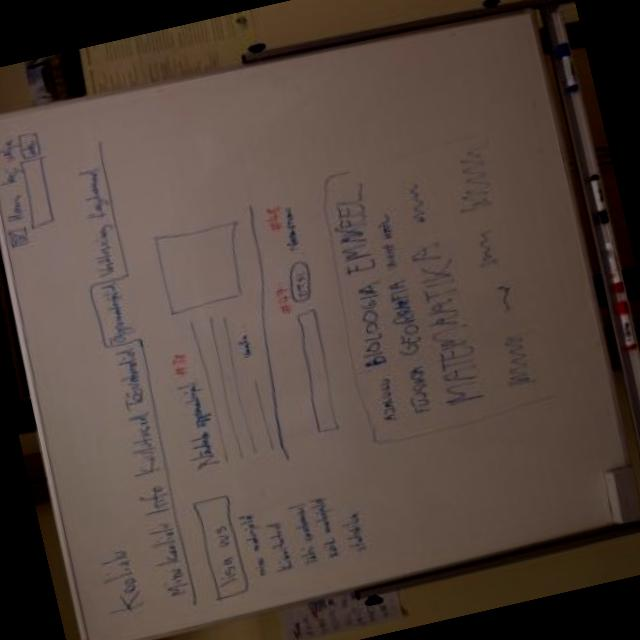White-board: (0, 9, 640, 640)
